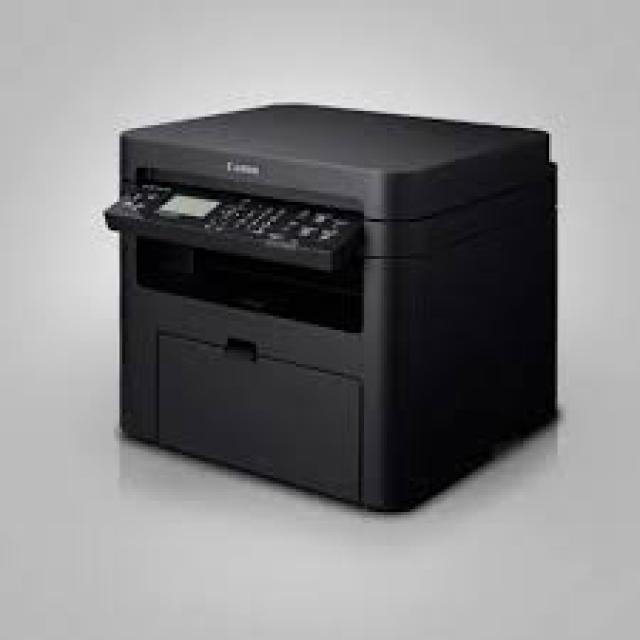printer: (102, 100, 560, 512)
